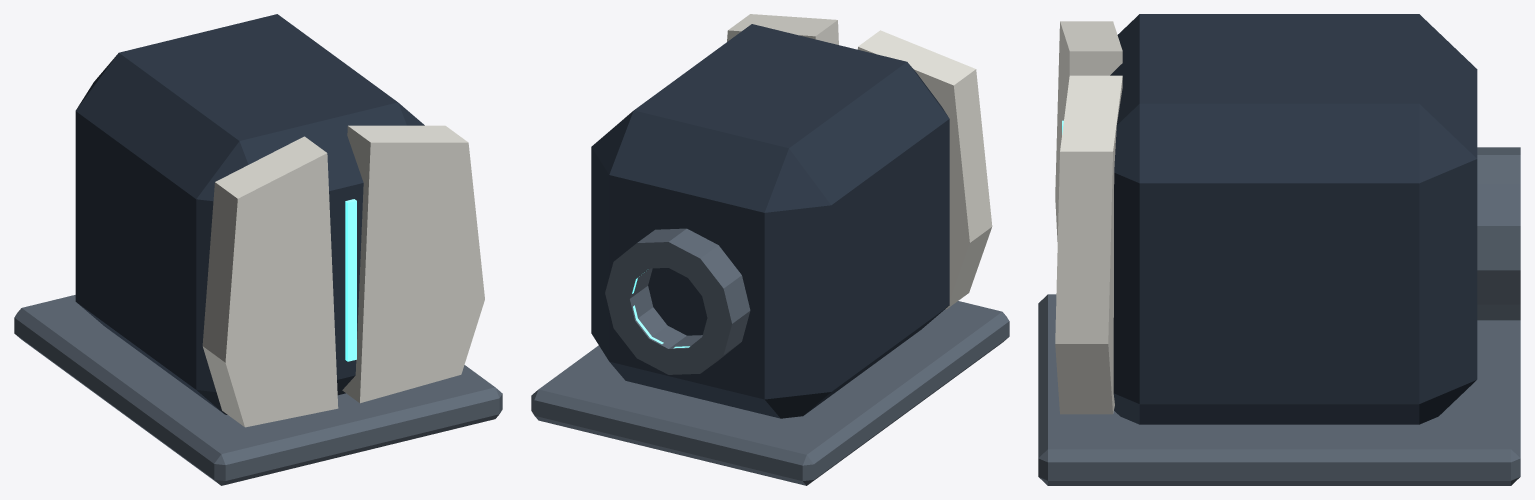
The model's file is credentials_vault.glb.
The picture shows the model from 3 angles, left to right: view 1: azimuth 30°, elevation 25°; view 2: azimuth 150°, elevation 25°; view 3: azimuth 270°, elevation 25°; orthographic projection. The views are drawn at different scales.
Visible parts, largest first — view 1: credentials_vault__core, credentials_vault__armor_A, credentials_vault__armor_B, credentials_vault__base, credentials_vault__seam_emissive; view 2: credentials_vault__core, credentials_vault__base, credentials_vault__primary_DCI-S_frame, credentials_vault__armor_A, credentials_vault__armor_B; view 3: credentials_vault__core, credentials_vault__base, credentials_vault__armor_B, credentials_vault__primary_DCI-S_frame, credentials_vault__armor_A.
Boxes of the visible parts, left/top/right/bottom form: credentials_vault__core: left=75, top=14, right=424, bottom=414; credentials_vault__armor_A: left=202, top=136, right=338, bottom=427; credentials_vault__armor_B: left=342, top=125, right=484, bottom=403; credentials_vault__base: left=14, top=295, right=502, bottom=485; credentials_vault__seam_emissive: left=345, top=199, right=356, bottom=361; credentials_vault__core: left=591, top=24, right=949, bottom=418; credentials_vault__base: left=531, top=301, right=1009, bottom=485; credentials_vault__primary_DCI-S_frame: left=605, top=228, right=750, bottom=374; credentials_vault__armor_A: left=857, top=30, right=992, bottom=309; credentials_vault__armor_B: left=727, top=14, right=838, bottom=44; credentials_vault__core: left=1110, top=14, right=1477, bottom=424; credentials_vault__base: left=1038, top=294, right=1520, bottom=485; credentials_vault__armor_B: left=1055, top=75, right=1122, bottom=414; credentials_vault__primary_DCI-S_frame: left=1477, top=147, right=1520, bottom=320; credentials_vault__armor_A: left=1055, top=21, right=1122, bottom=241.
Size of the model in its own units: 0.8 by 0.8 by 1.
